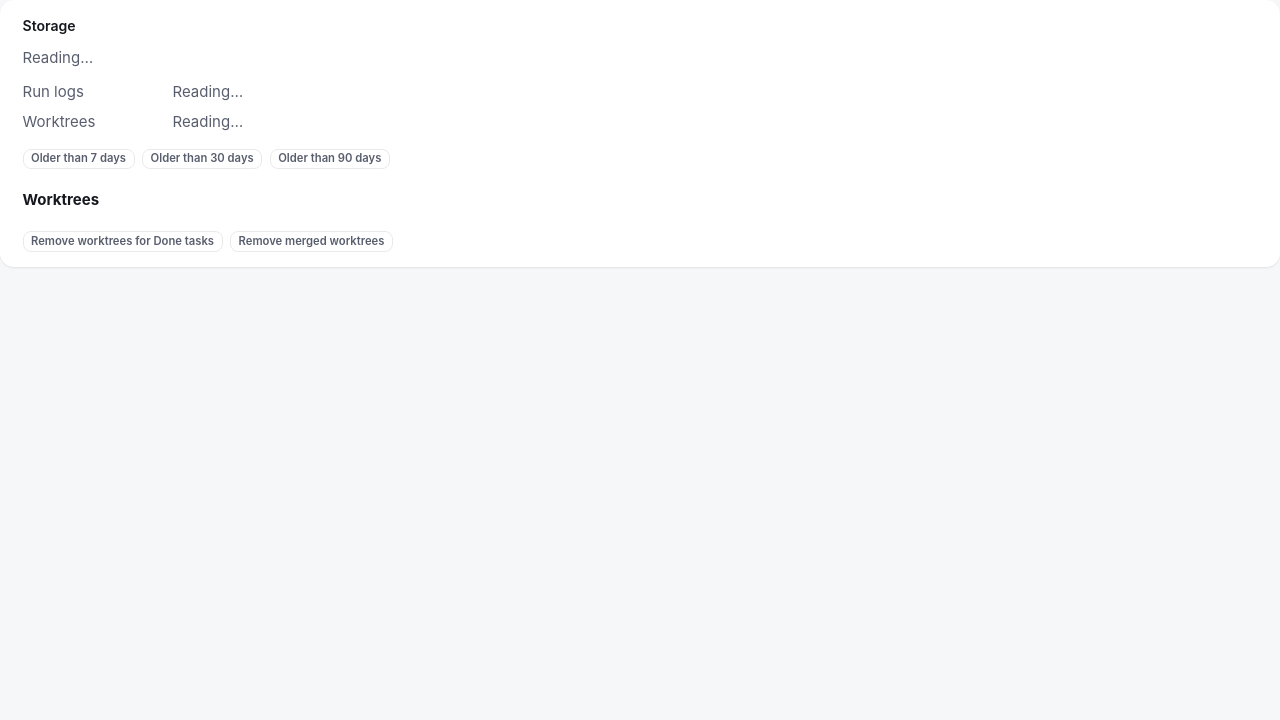
Test case: StorageSection › names the planner transcripts a prune reclaimed alongside the run logs
Click the button "Older than 7 days".
click(78, 159)  # box 22,149 -> 134,169
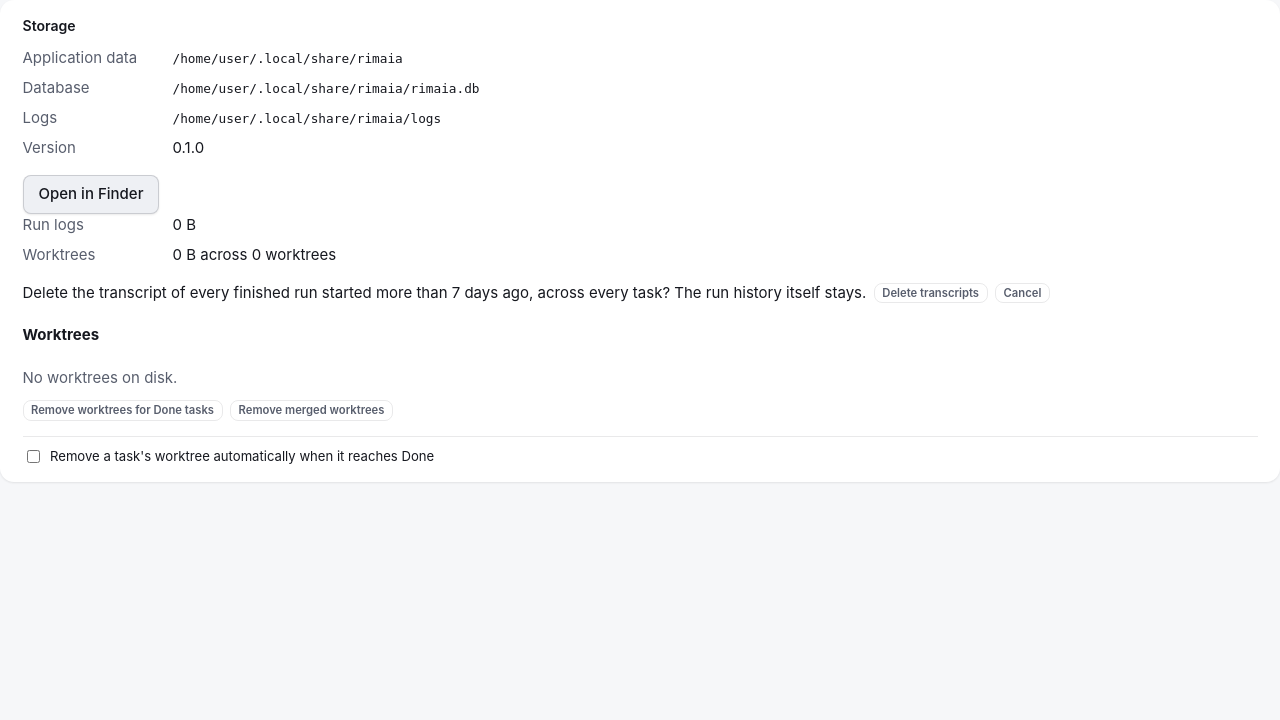
Click the button "Delete transcripts".
click(931, 293)  # box 874,283 -> 988,303
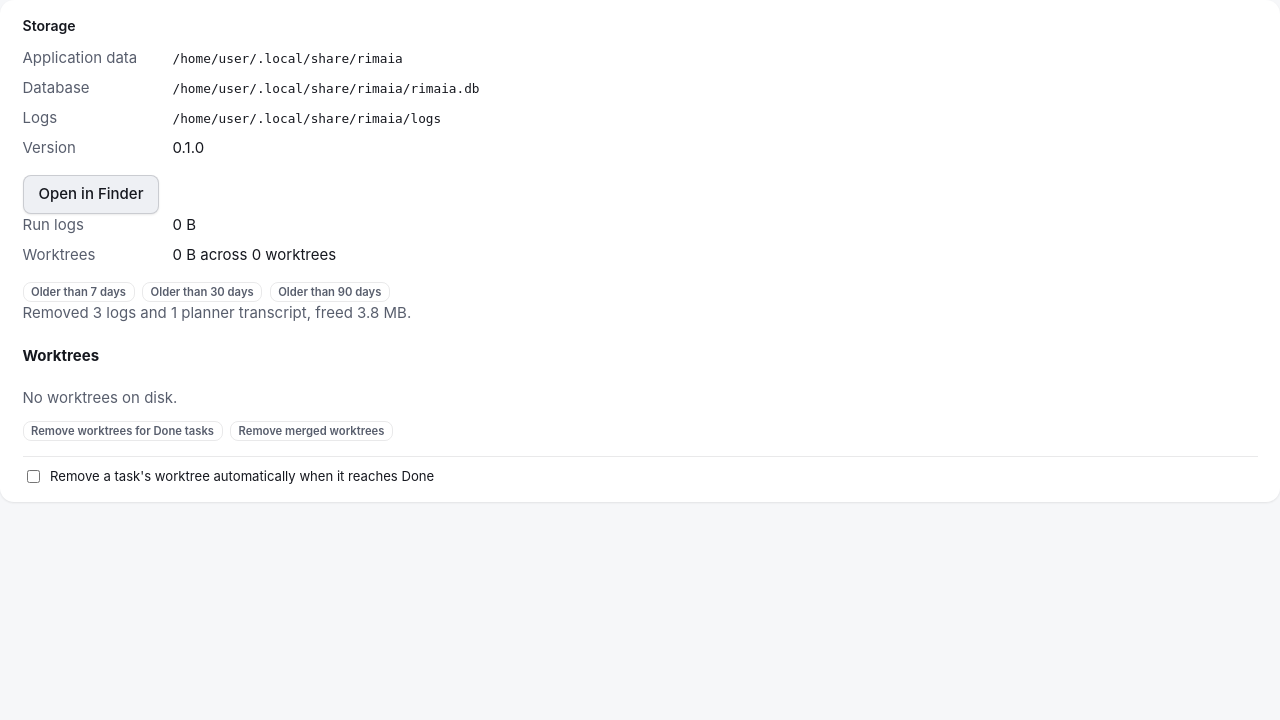
Now the text "Removed 3 logs and 1 planner transcript, freed 3.8 MB." is shown, box 22,303 -> 411,322
